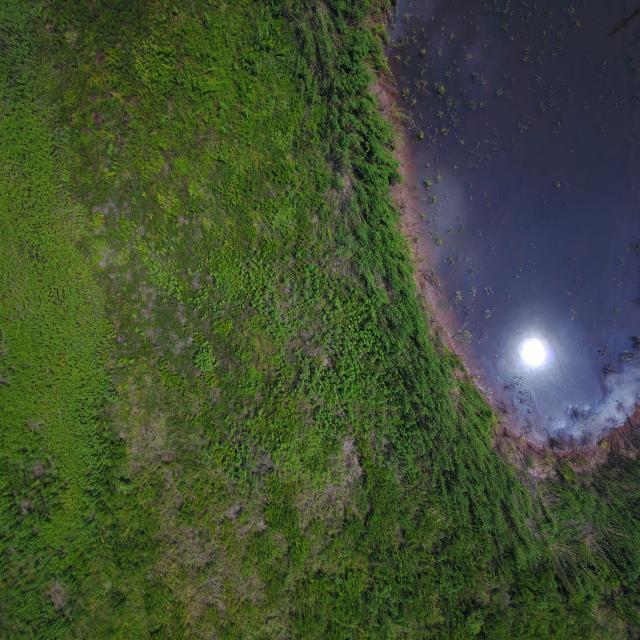fire: (388, 0, 640, 441)
